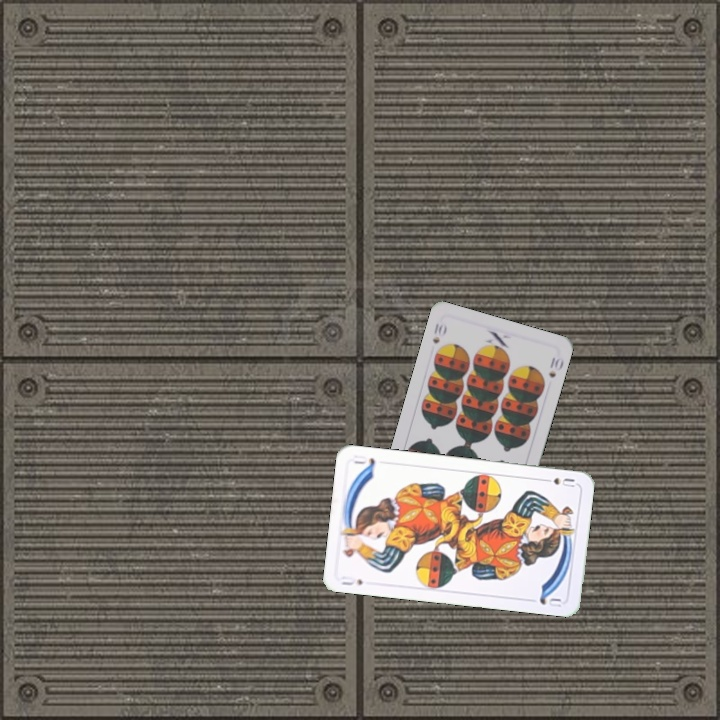S10: (428, 319, 449, 346)
SU: (538, 474, 577, 490), (337, 572, 365, 588)
